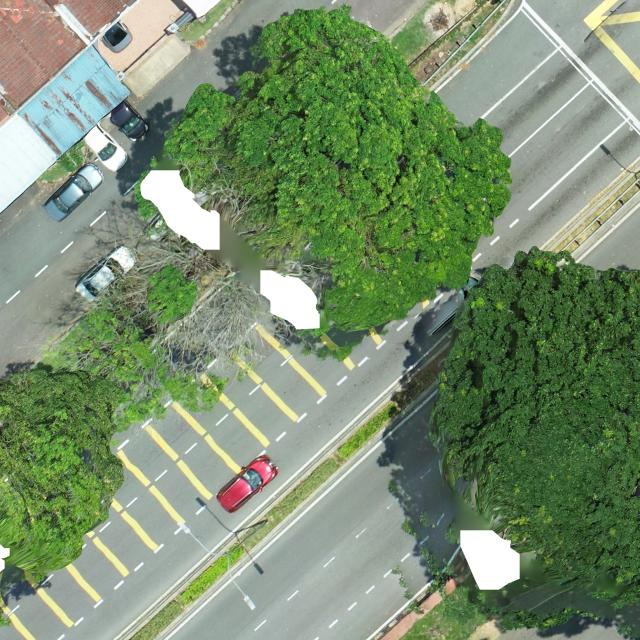tree: (160, 6, 514, 357), (46, 154, 337, 436), (431, 244, 640, 632), (0, 361, 128, 592)
